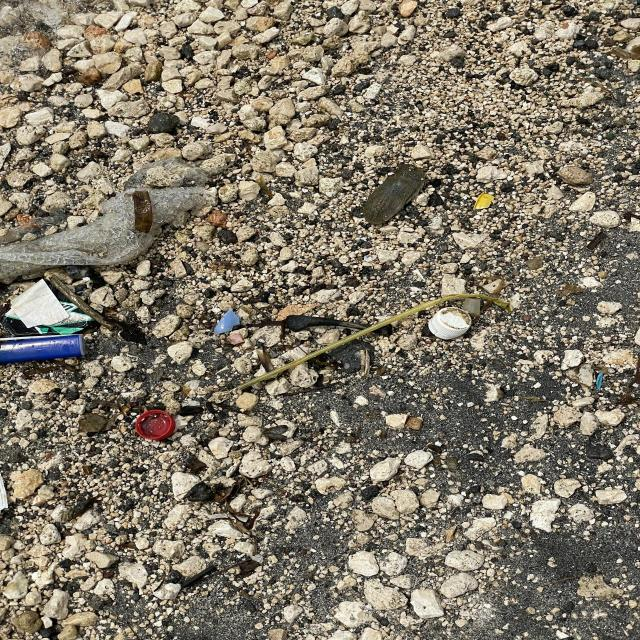plastic_waste: (1, 279, 97, 370), (430, 307, 473, 340), (135, 410, 175, 441)
